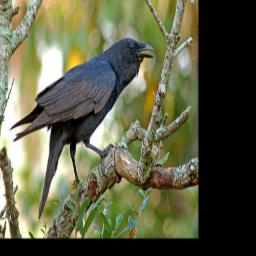Crow: (8, 37, 155, 222)
